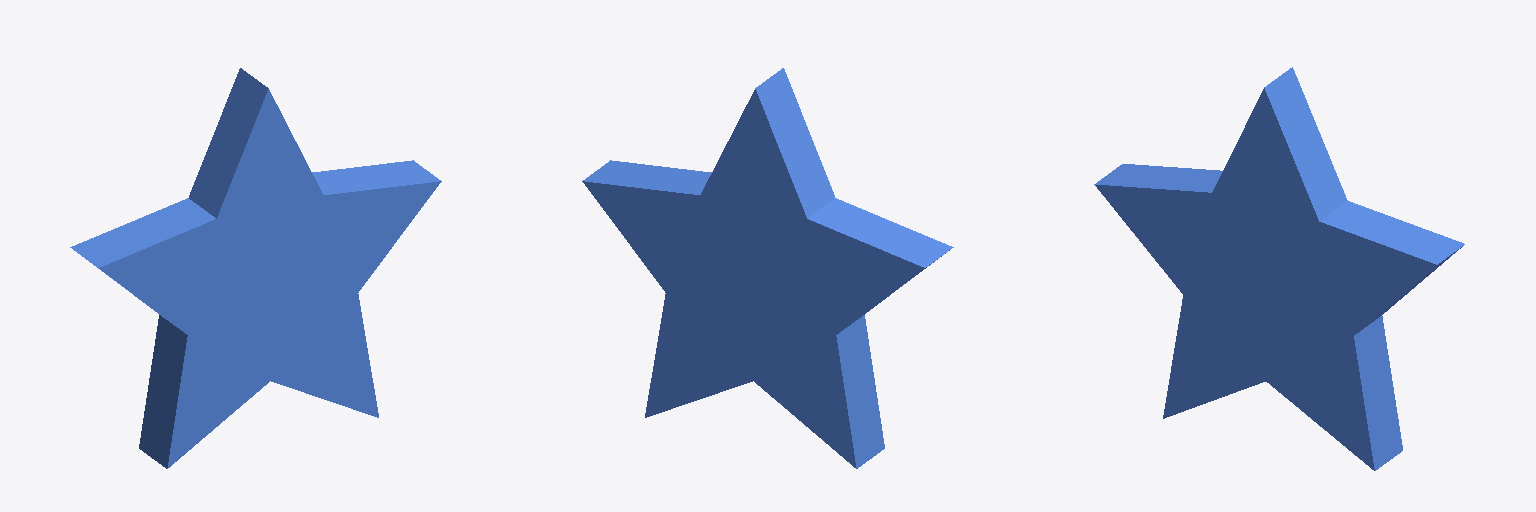
The model's file is estrellaC.obj.
3 renders of one model, left to right at view 1: azimuth 30°, elevation 25°; view 2: azimuth 150°, elevation 25°; view 3: azimuth 330°, elevation 25°, orthographic.
Visible parts, largest first — view 1: estrellaC:polySurface1; view 2: estrellaC:polySurface1; view 3: estrellaC:polySurface1.
Part boxes in pixels (x1,y1,x2,y2): estrellaC:polySurface1: (70,68,441,468); estrellaC:polySurface1: (582,68,953,468); estrellaC:polySurface1: (1094,67,1464,470).
Size of the model in its own units: 6.75 by 6.72 by 0.9712.